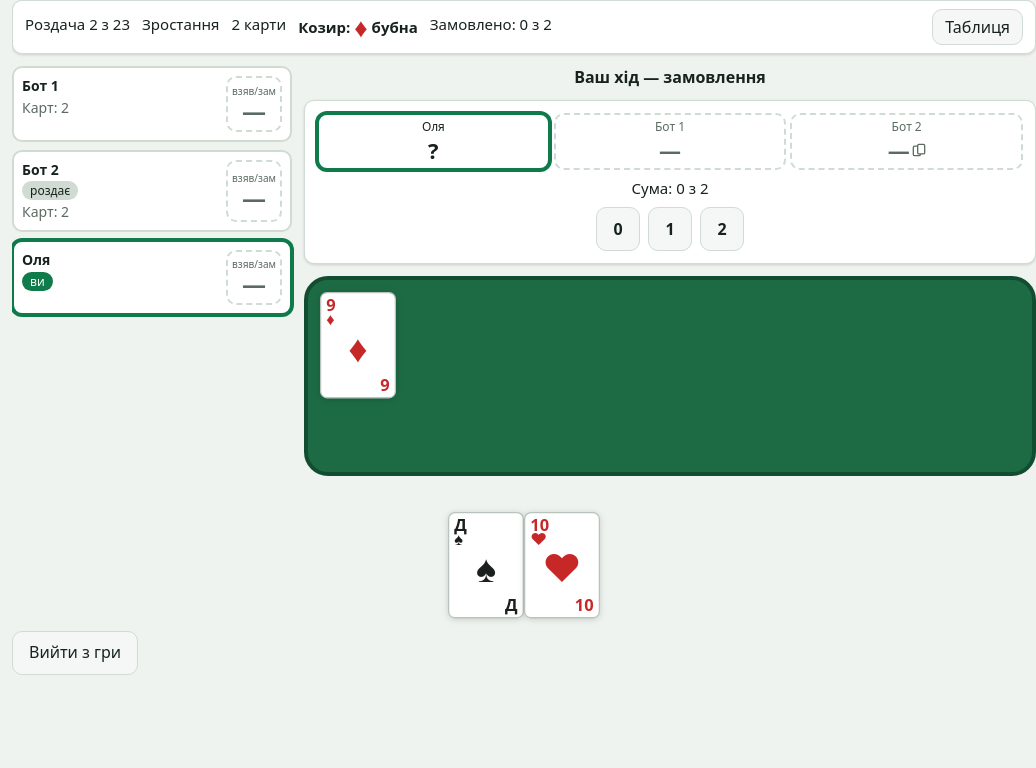
Scenario: замовлення › R-4.3: відмова сервера знову вмикає кнопки замовлення
This screenshot has width=1036, height=768.
Click the button "0": (618, 229) [596, 207, 640, 251]
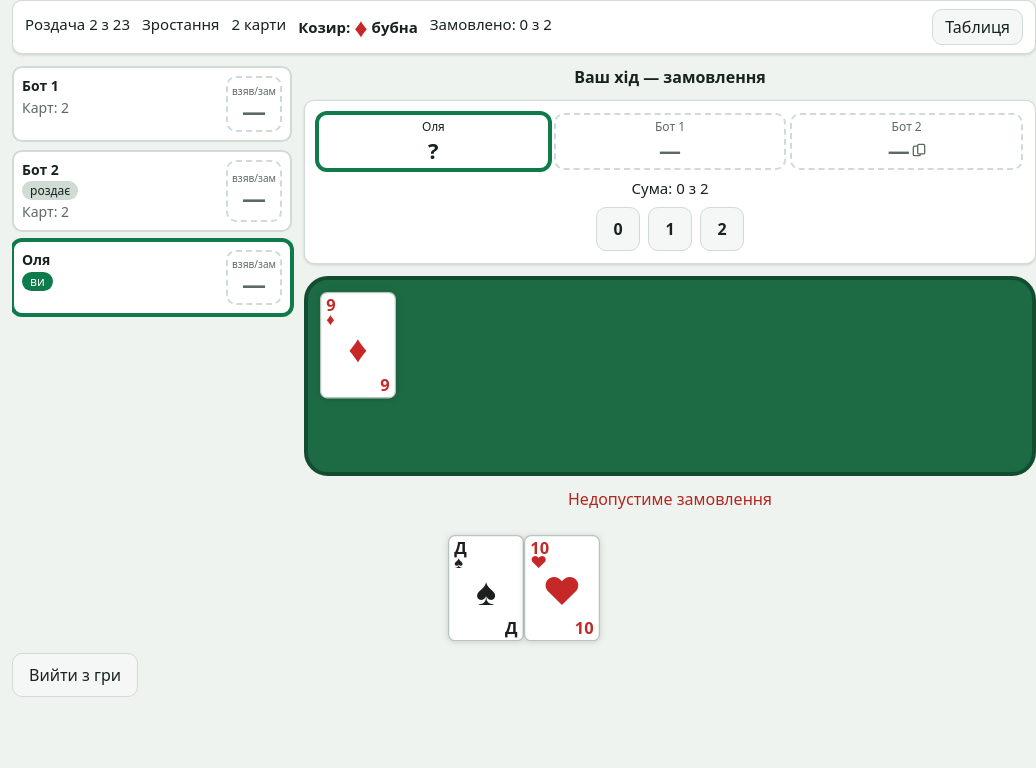
Expected: the button "1" is enabled, [648, 207, 692, 251]
Expected: the message "Недопустиме замовлення" is shown, [568, 488, 772, 510]
